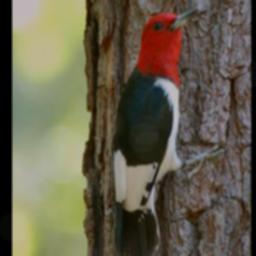Woodpecker: (111, 7, 226, 256)
